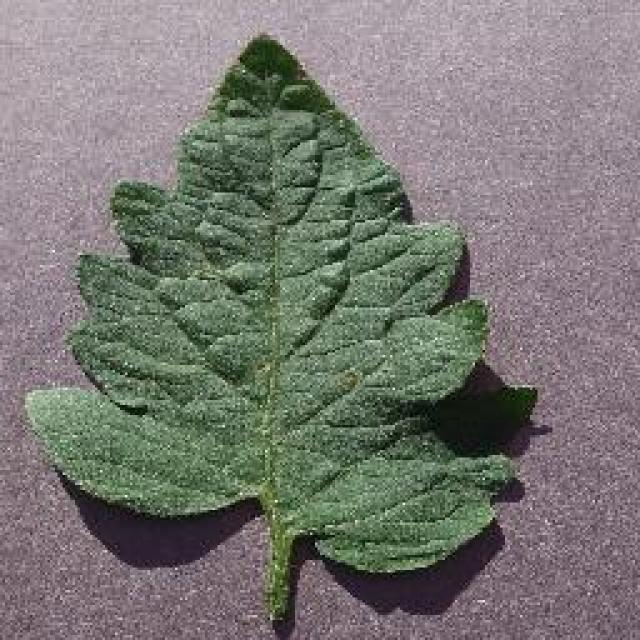Tomato Septoria spot leaf: (22, 36, 542, 582)
